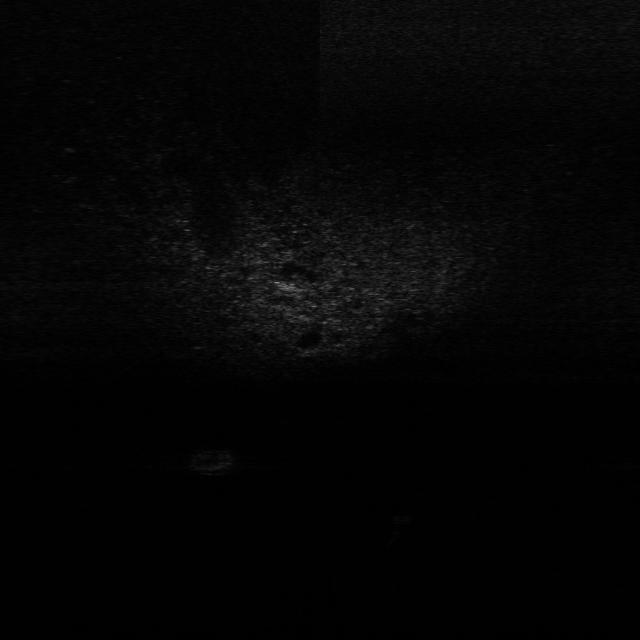circle cage: (202, 440, 239, 474)
cylinder: (382, 507, 414, 552)
